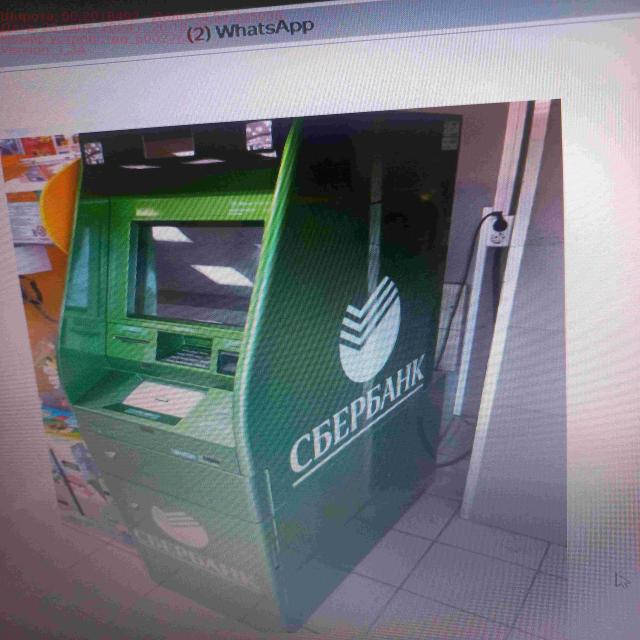bank: (59, 105, 467, 640)
